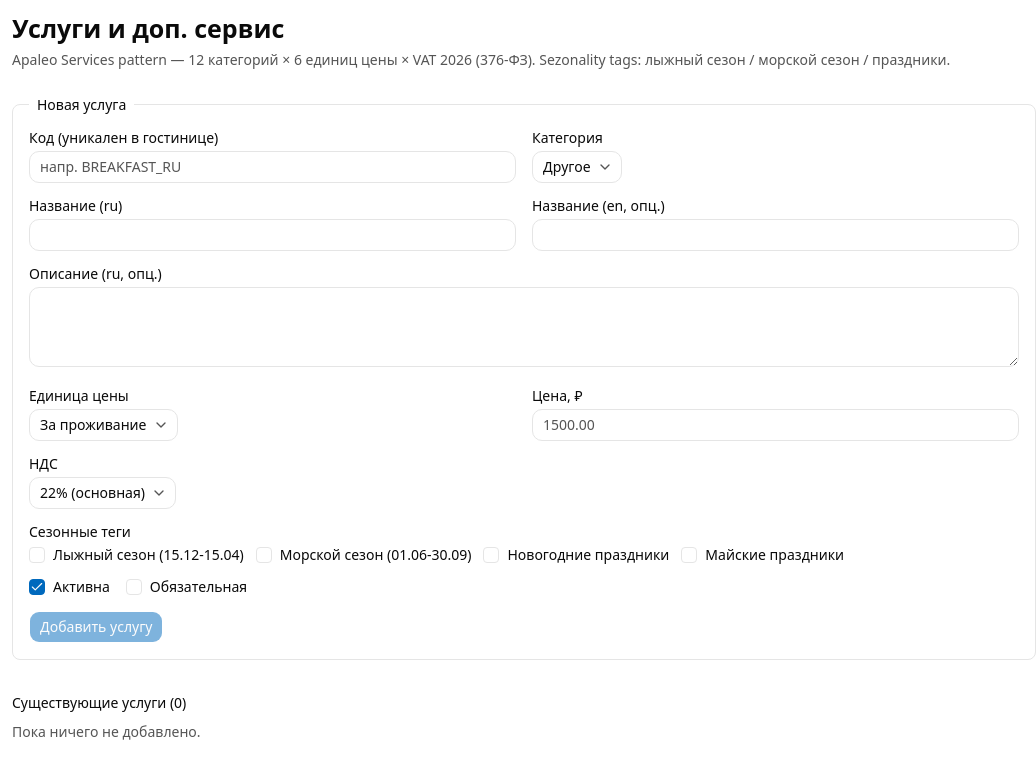
<AddonsStep> — enum coverage › [E3] VAT dropdown has 6 options matching VAT_RATE_BPS_VALUES
Click the dropdown named "НДС" at (102, 492), box [29, 476, 176, 508]
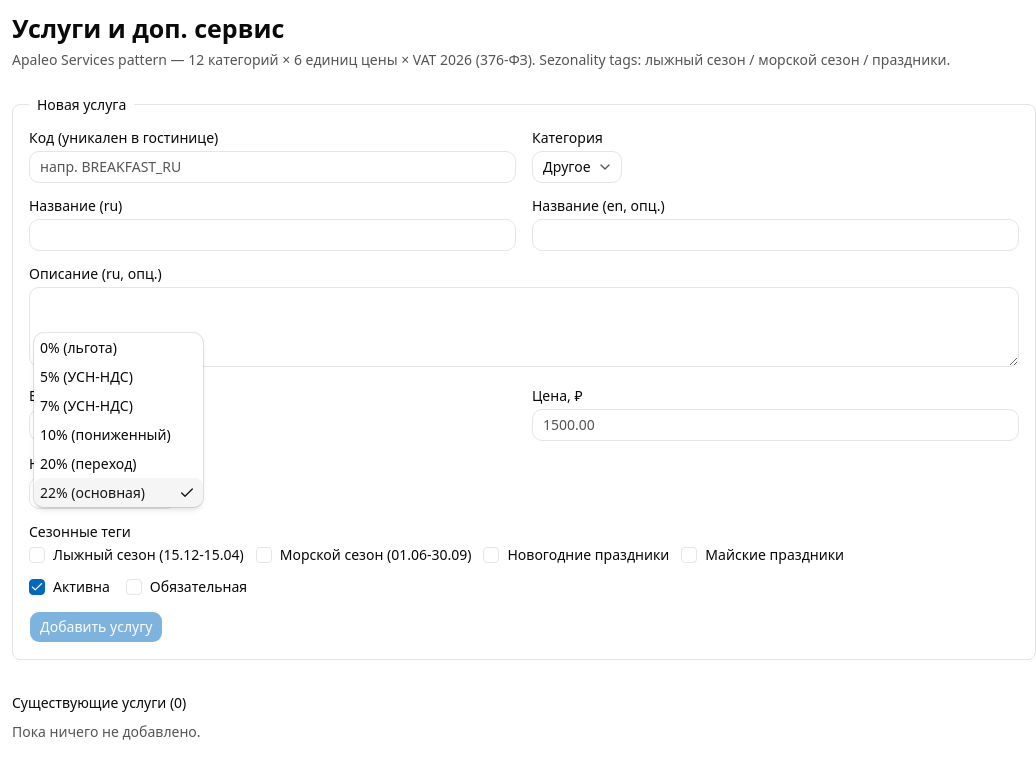
Check: the number of options is 6, box [40, 338, 117, 357]; [40, 367, 133, 386]; [40, 396, 133, 415]; [40, 425, 171, 444]; [40, 454, 137, 473]; [34, 478, 203, 507]
